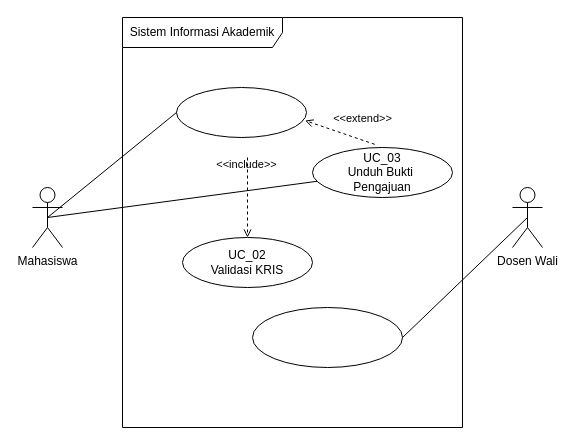
This 575x445 diagram has some shape labels left out. Each missing label, with the box of its shape:
UC_01 ajukan KRS: (176, 86, 306, 138)
UC_04 Proses Keputusan KSR: (252, 306, 402, 368)
